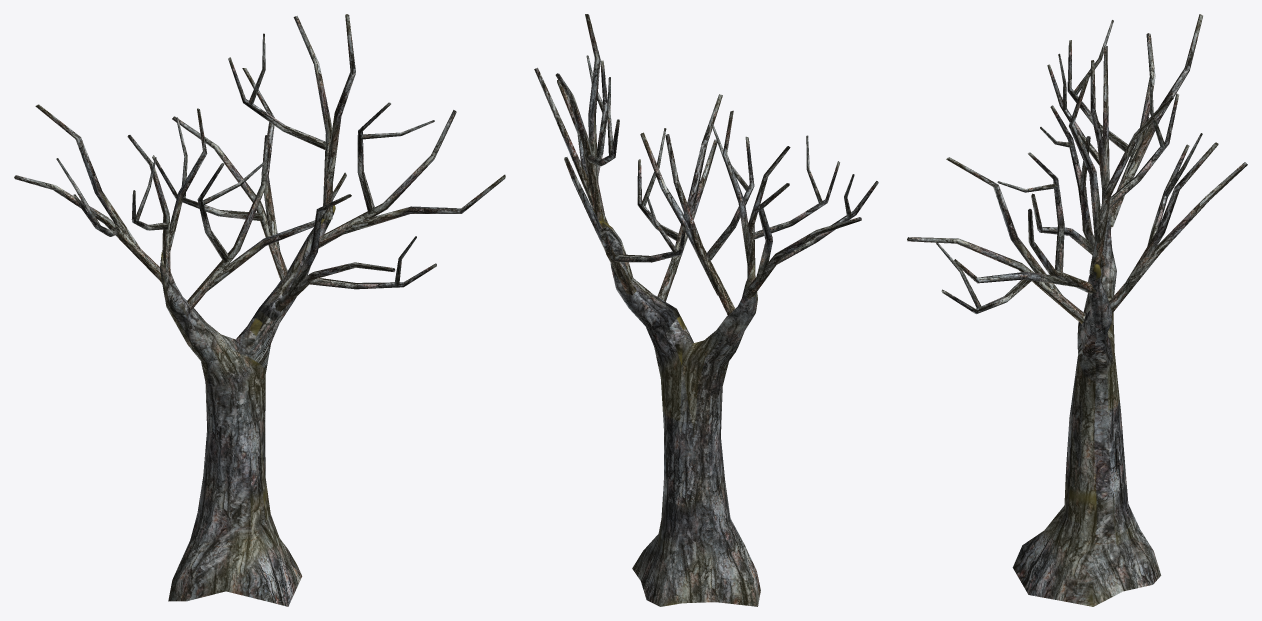
The model's file is tree_03b.obj.
The picture shows the model from 3 angles, left to right: view 1: azimuth 30°, elevation 25°; view 2: azimuth 150°, elevation 25°; view 3: azimuth 270°, elevation 25°; orthographic projection. The views are drawn at different scales.
Parts seen in each view (by area): view 1: Cylinder.006_Cylinder.011; view 2: Cylinder.006_Cylinder.011; view 3: Cylinder.006_Cylinder.011.
Boxes of the visible parts, <box> form: Cylinder.006_Cylinder.011: <box>14,14,505,606</box>; Cylinder.006_Cylinder.011: <box>534,14,878,606</box>; Cylinder.006_Cylinder.011: <box>907,14,1247,606</box>.
Bounding box in the file's own units: 8.79 × 11.59 × 6.33.
Materials: 1 (1 with a texture image).
